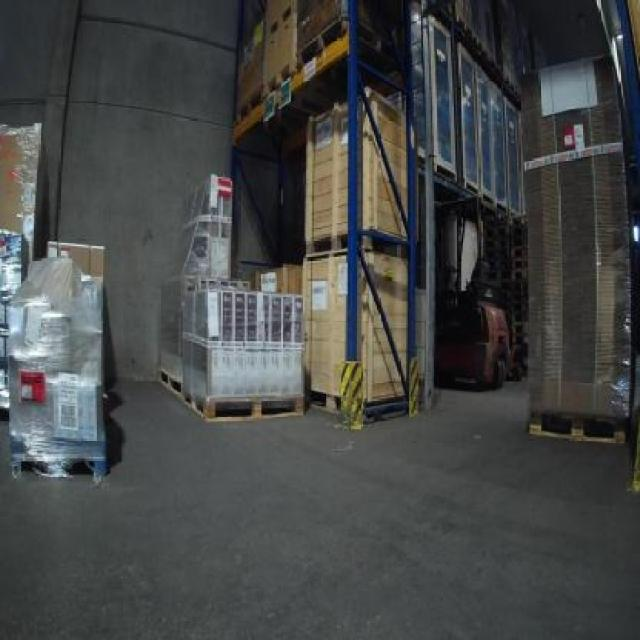pallet: (175, 376, 313, 432), (518, 401, 640, 451), (256, 46, 301, 114), (153, 361, 190, 406)
